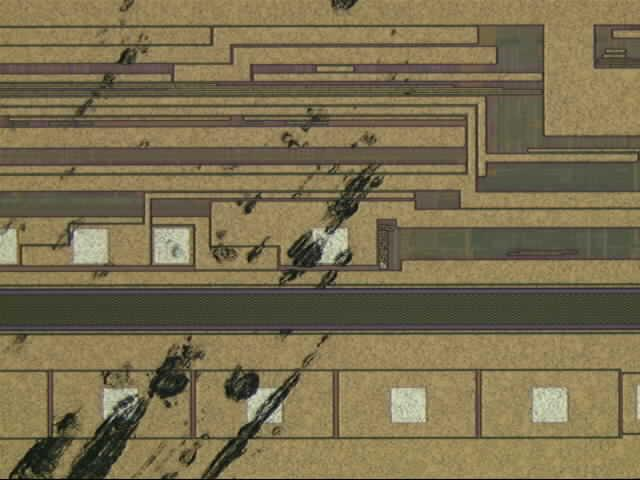SCRATCH: (1, 1, 384, 480)
